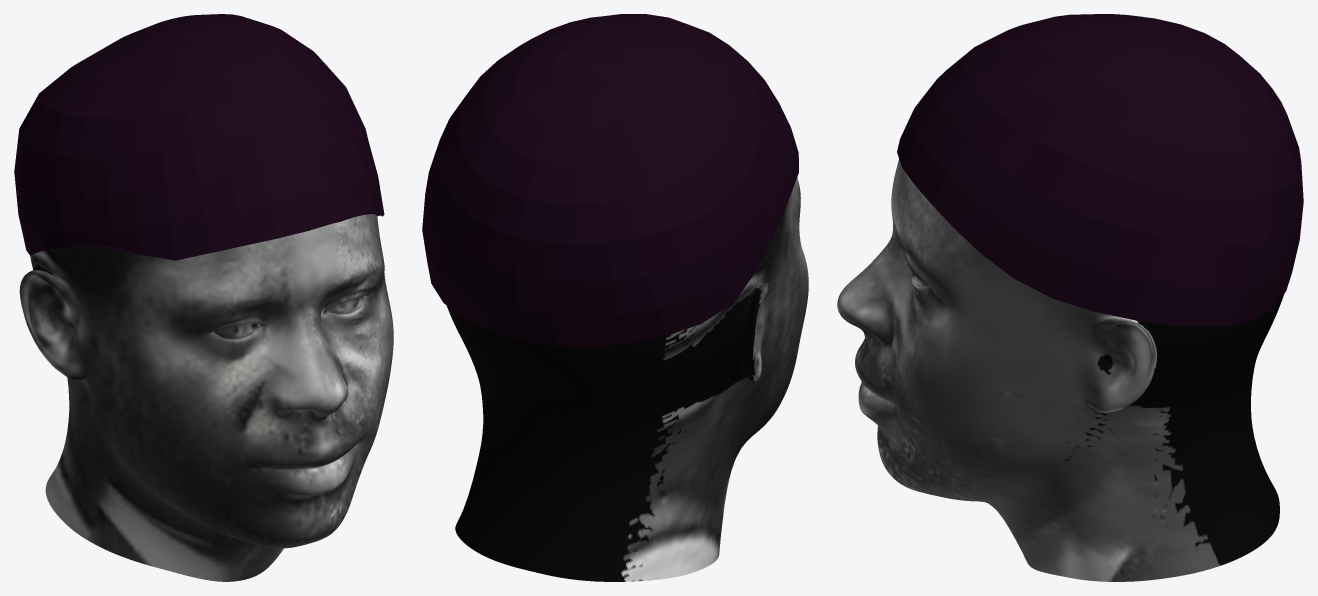
The model's file is monk.glb.
The picture shows the model from 3 angles, left to right: view 1: azimuth 30°, elevation 25°; view 2: azimuth 150°, elevation 25°; view 3: azimuth 270°, elevation 25°; orthographic projection. The views are drawn at different scales.
Visible parts, largest first — view 1: FBHead.002, Sphere; view 2: Sphere, FBHead.002; view 3: FBHead.002, Sphere.
Part boxes in pixels (x1,y1,x2,y2): FBHead.002: (19,214,393,581); Sphere: (14,14,384,260); Sphere: (422,14,798,347); FBHead.002: (447,178,808,581); FBHead.002: (837,159,1283,581); Sphere: (897,14,1303,326).
Bounding box in the file's own units: 1.59 × 2.42 × 1.93.
Materials: 2 (1 with a texture image).
